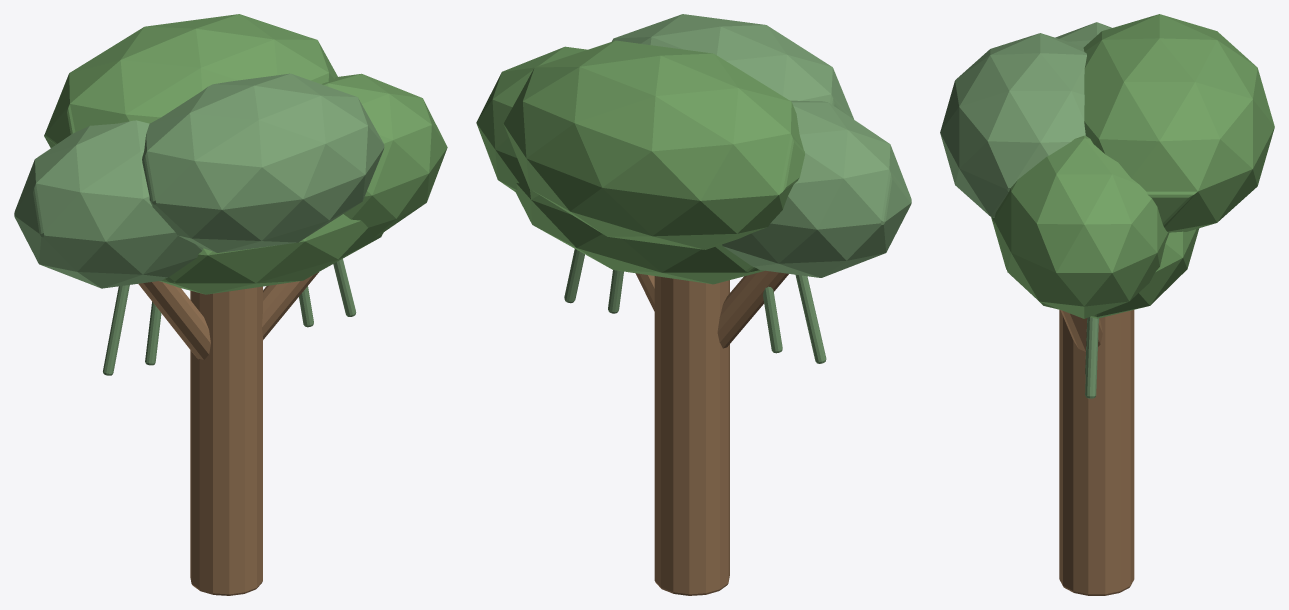
File: prop-willow.glb
3 views of the same model, side by side, from view 1: azimuth 30°, elevation 25°; view 2: azimuth 150°, elevation 25°; view 3: azimuth 270°, elevation 25° (orthographic). The views are drawn at different scales.
Parts seen in each view (by area): view 1: Willow leaves, Leaf green, Aged oak; view 2: Leaf green, Willow leaves, Aged oak; view 3: Leaf green, Aged oak, Willow leaves.
Boxes of the visible parts, bbox=[...] form: Willow leaves: bbox=[14, 73, 384, 375]; Leaf green: bbox=[44, 14, 447, 294]; Aged oak: bbox=[138, 272, 318, 595]; Leaf green: bbox=[476, 40, 804, 284]; Willow leaves: bbox=[564, 14, 911, 363]; Aged oak: bbox=[635, 270, 788, 595]; Leaf green: bbox=[991, 14, 1274, 318]; Aged oak: bbox=[1059, 310, 1134, 595]; Willow leaves: bbox=[940, 22, 1111, 398].
Bounding box in the file's own units: 3.78 × 4.78 × 2.67.
